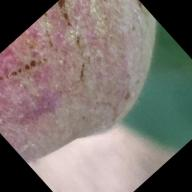Apples: (0, 0, 190, 186)
